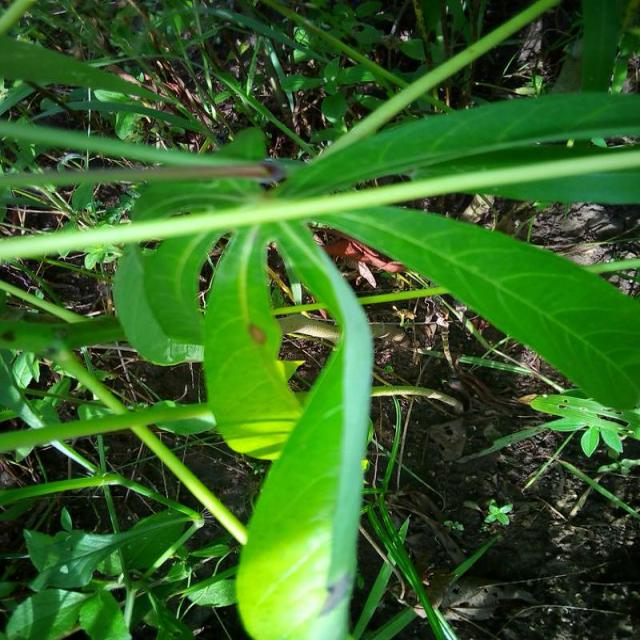cassava leaf: (233, 215, 374, 638)
